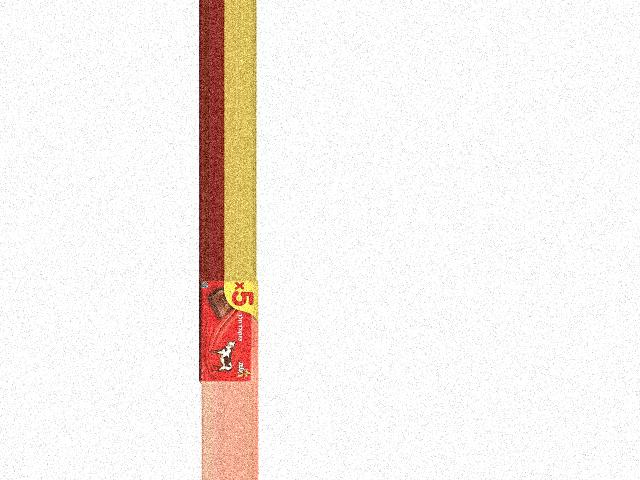chocolate: (199, 280, 260, 385)
